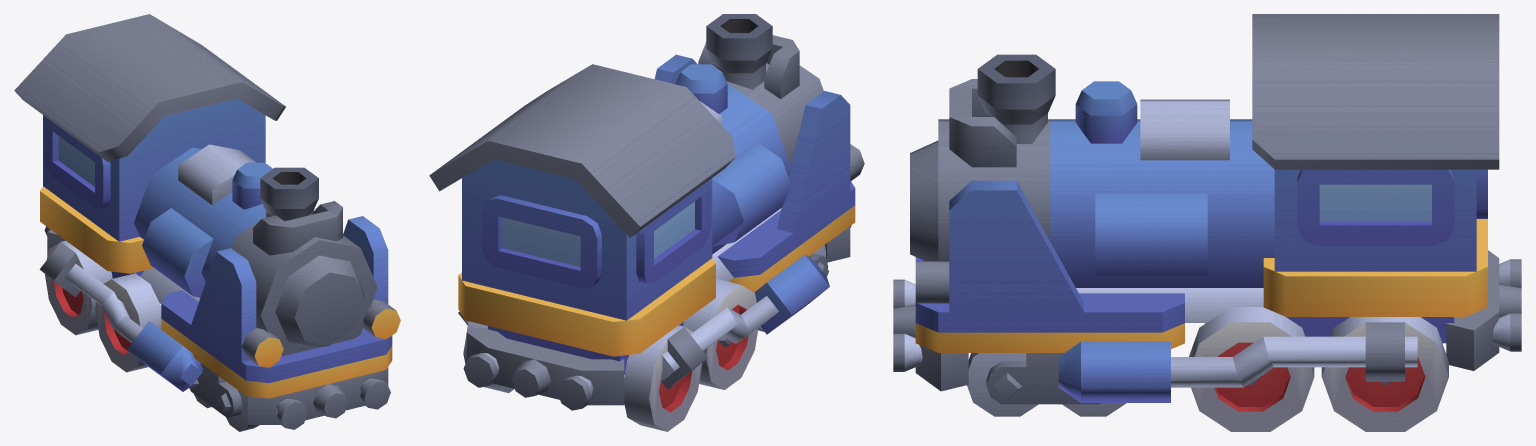
Rendered from Train Locomotive C.glb.
3 renders of one model, left to right at view 1: azimuth 30°, elevation 25°; view 2: azimuth 150°, elevation 25°; view 3: azimuth 270°, elevation 25°, orthographic. The views are drawn at different scales.
Visible parts, largest first — view 1: train-locomotive-c, wheel.002, wheel.003, wheels-front; view 2: train-locomotive-c, wheel.003, wheel.002; view 3: train-locomotive-c, wheel, wheel.001, wheels-front.
Boxes of the visible parts, x1,y1,x2,y2 form: train-locomotive-c: (14,14,400,429); wheel.002: (95,273,161,372); wheel.003: (45,240,112,335); wheels-front: (189,363,259,431); train-locomotive-c: (429,14,864,410); wheel.003: (624,325,702,431); wheel.002: (683,279,758,389); train-locomotive-c: (893,14,1521,402); wheel: (1189,307,1314,431); wheel.001: (1321,317,1448,431); wheels-front: (967,353,1126,416).
Bounding box in the file's own units: 1.43 × 1.66 × 2.8.
Materials: 1 (1 with a texture image).
